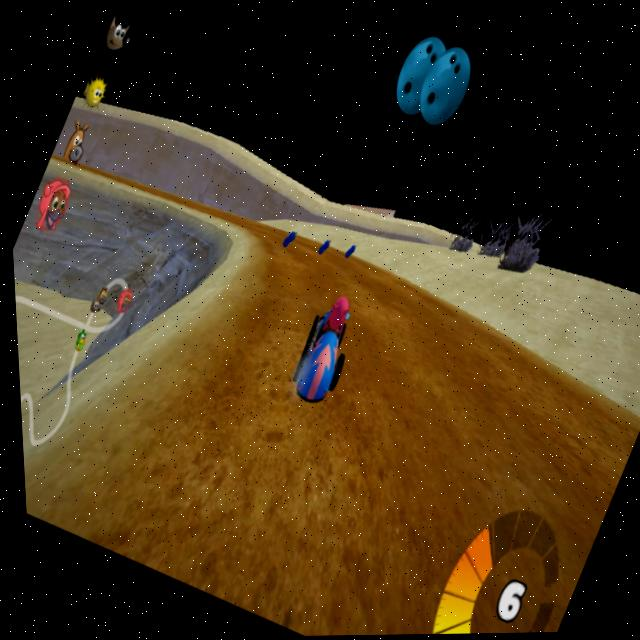nitro: (273, 225, 298, 254), (313, 238, 332, 261), (337, 245, 355, 266)
player_kart: (273, 288, 370, 410)
